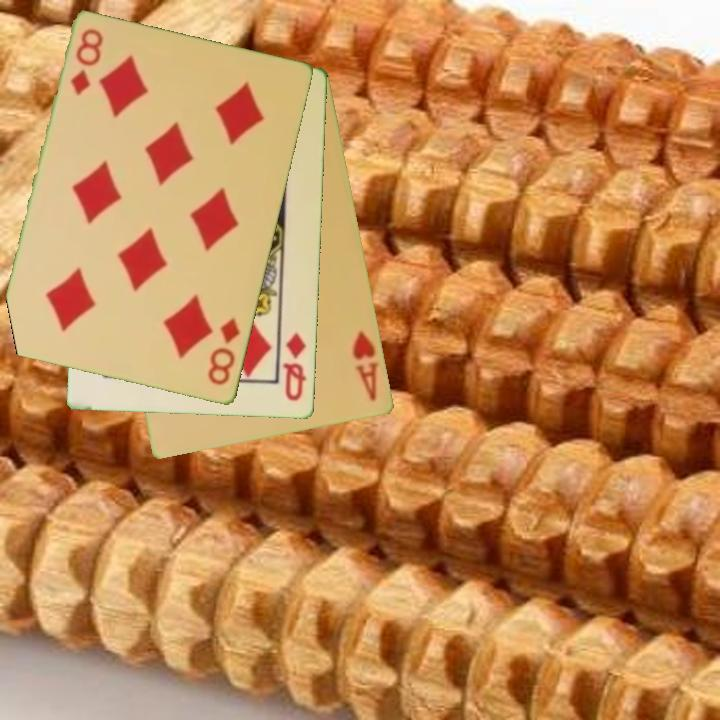8d: (204, 314, 244, 389), (67, 25, 106, 99)
Ah: (349, 327, 383, 404)
Qd: (279, 329, 310, 405)
